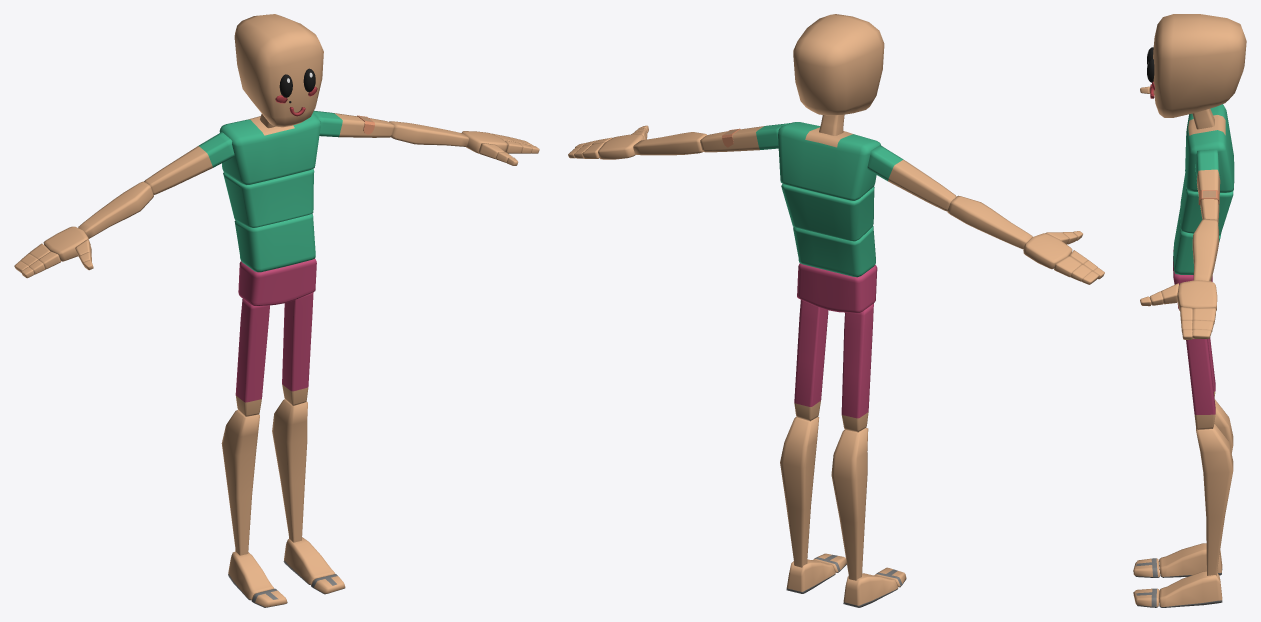
File: minty.glb
The picture shows the model from 3 angles, left to right: view 1: azimuth 30°, elevation 25°; view 2: azimuth 150°, elevation 25°; view 3: azimuth 270°, elevation 25°; orthographic projection. The views are drawn at different scales.
Visible parts, largest first — view 1: Minty; view 2: Minty; view 3: Minty.
Boxes of the visible parts, box(x1,y1,x2,y2) form: Minty: box(14, 14, 539, 607); Minty: box(568, 14, 1104, 607); Minty: box(1133, 14, 1246, 607).
Size of the model in its own units: 19.49 by 20.04 by 3.63.
